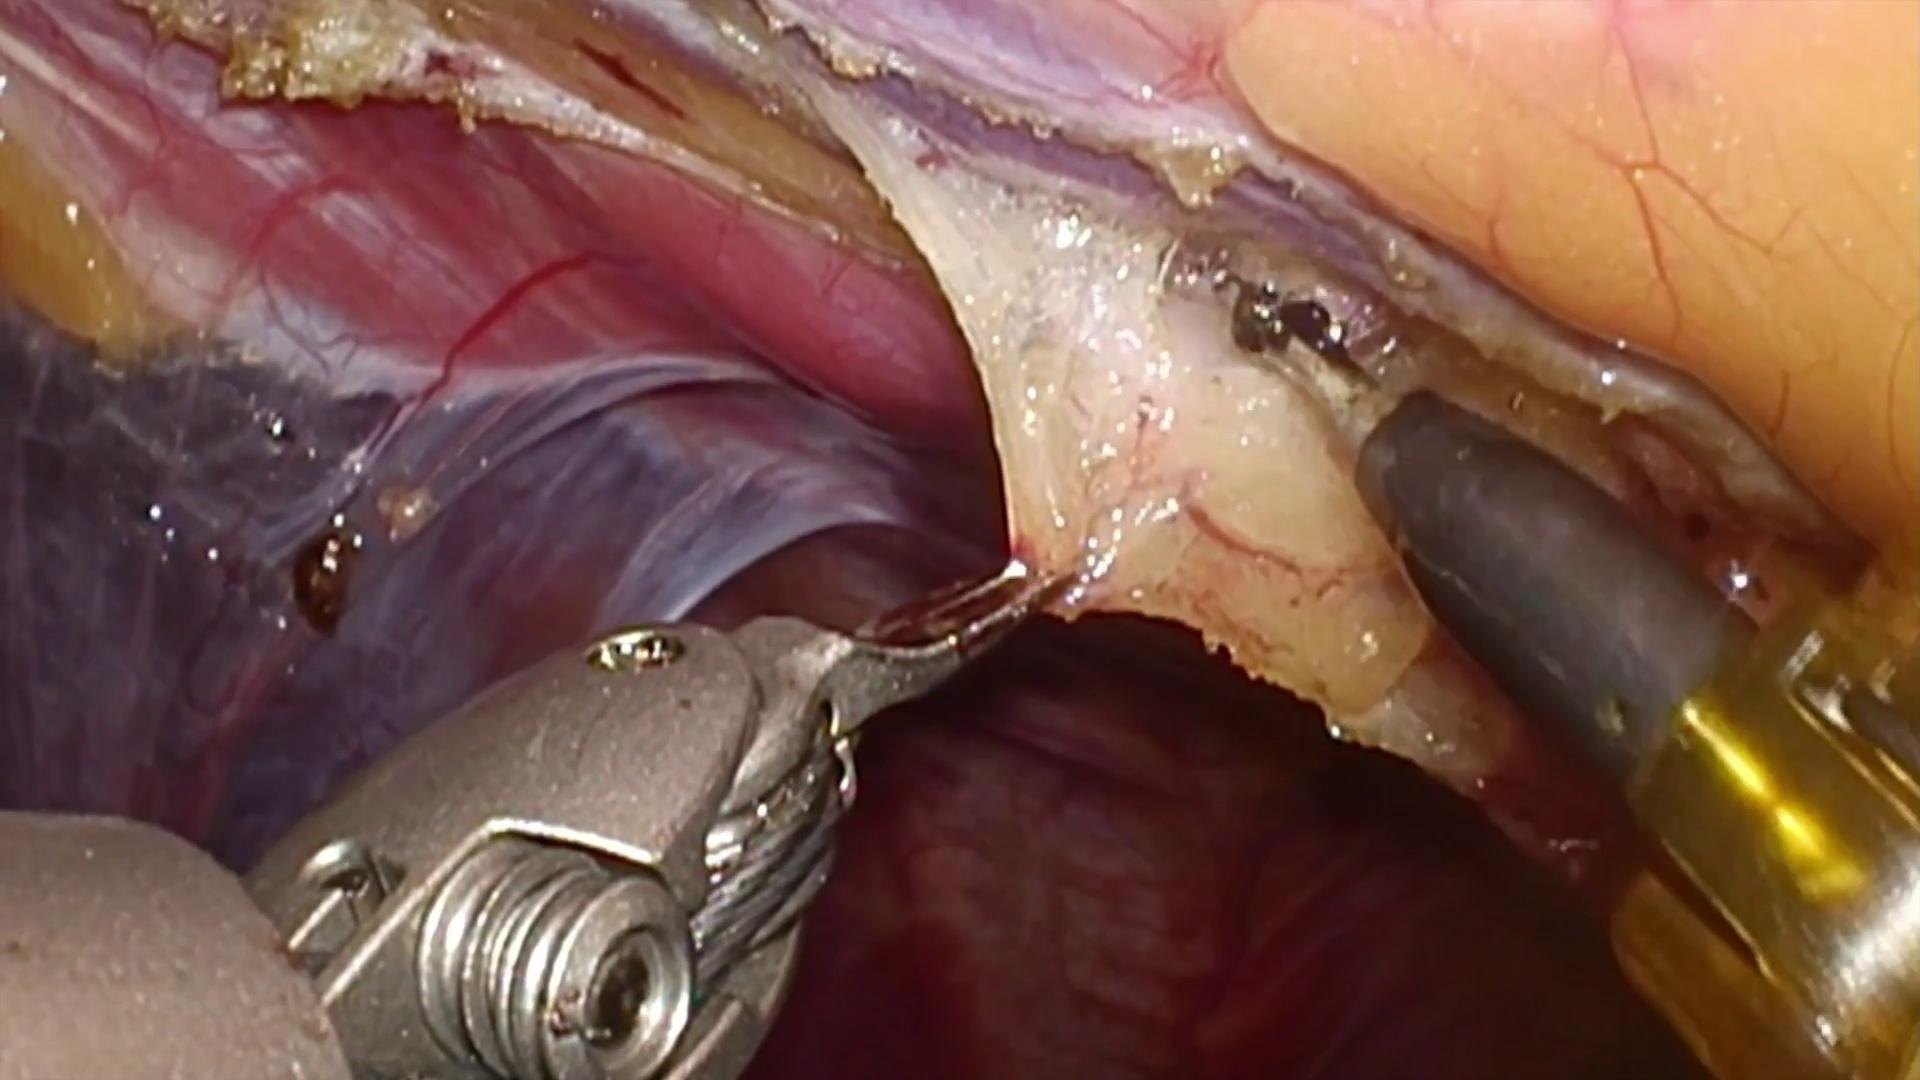Cautery_Spatula: (1232, 286, 1749, 778)
Debakey: (741, 529, 1058, 787)
